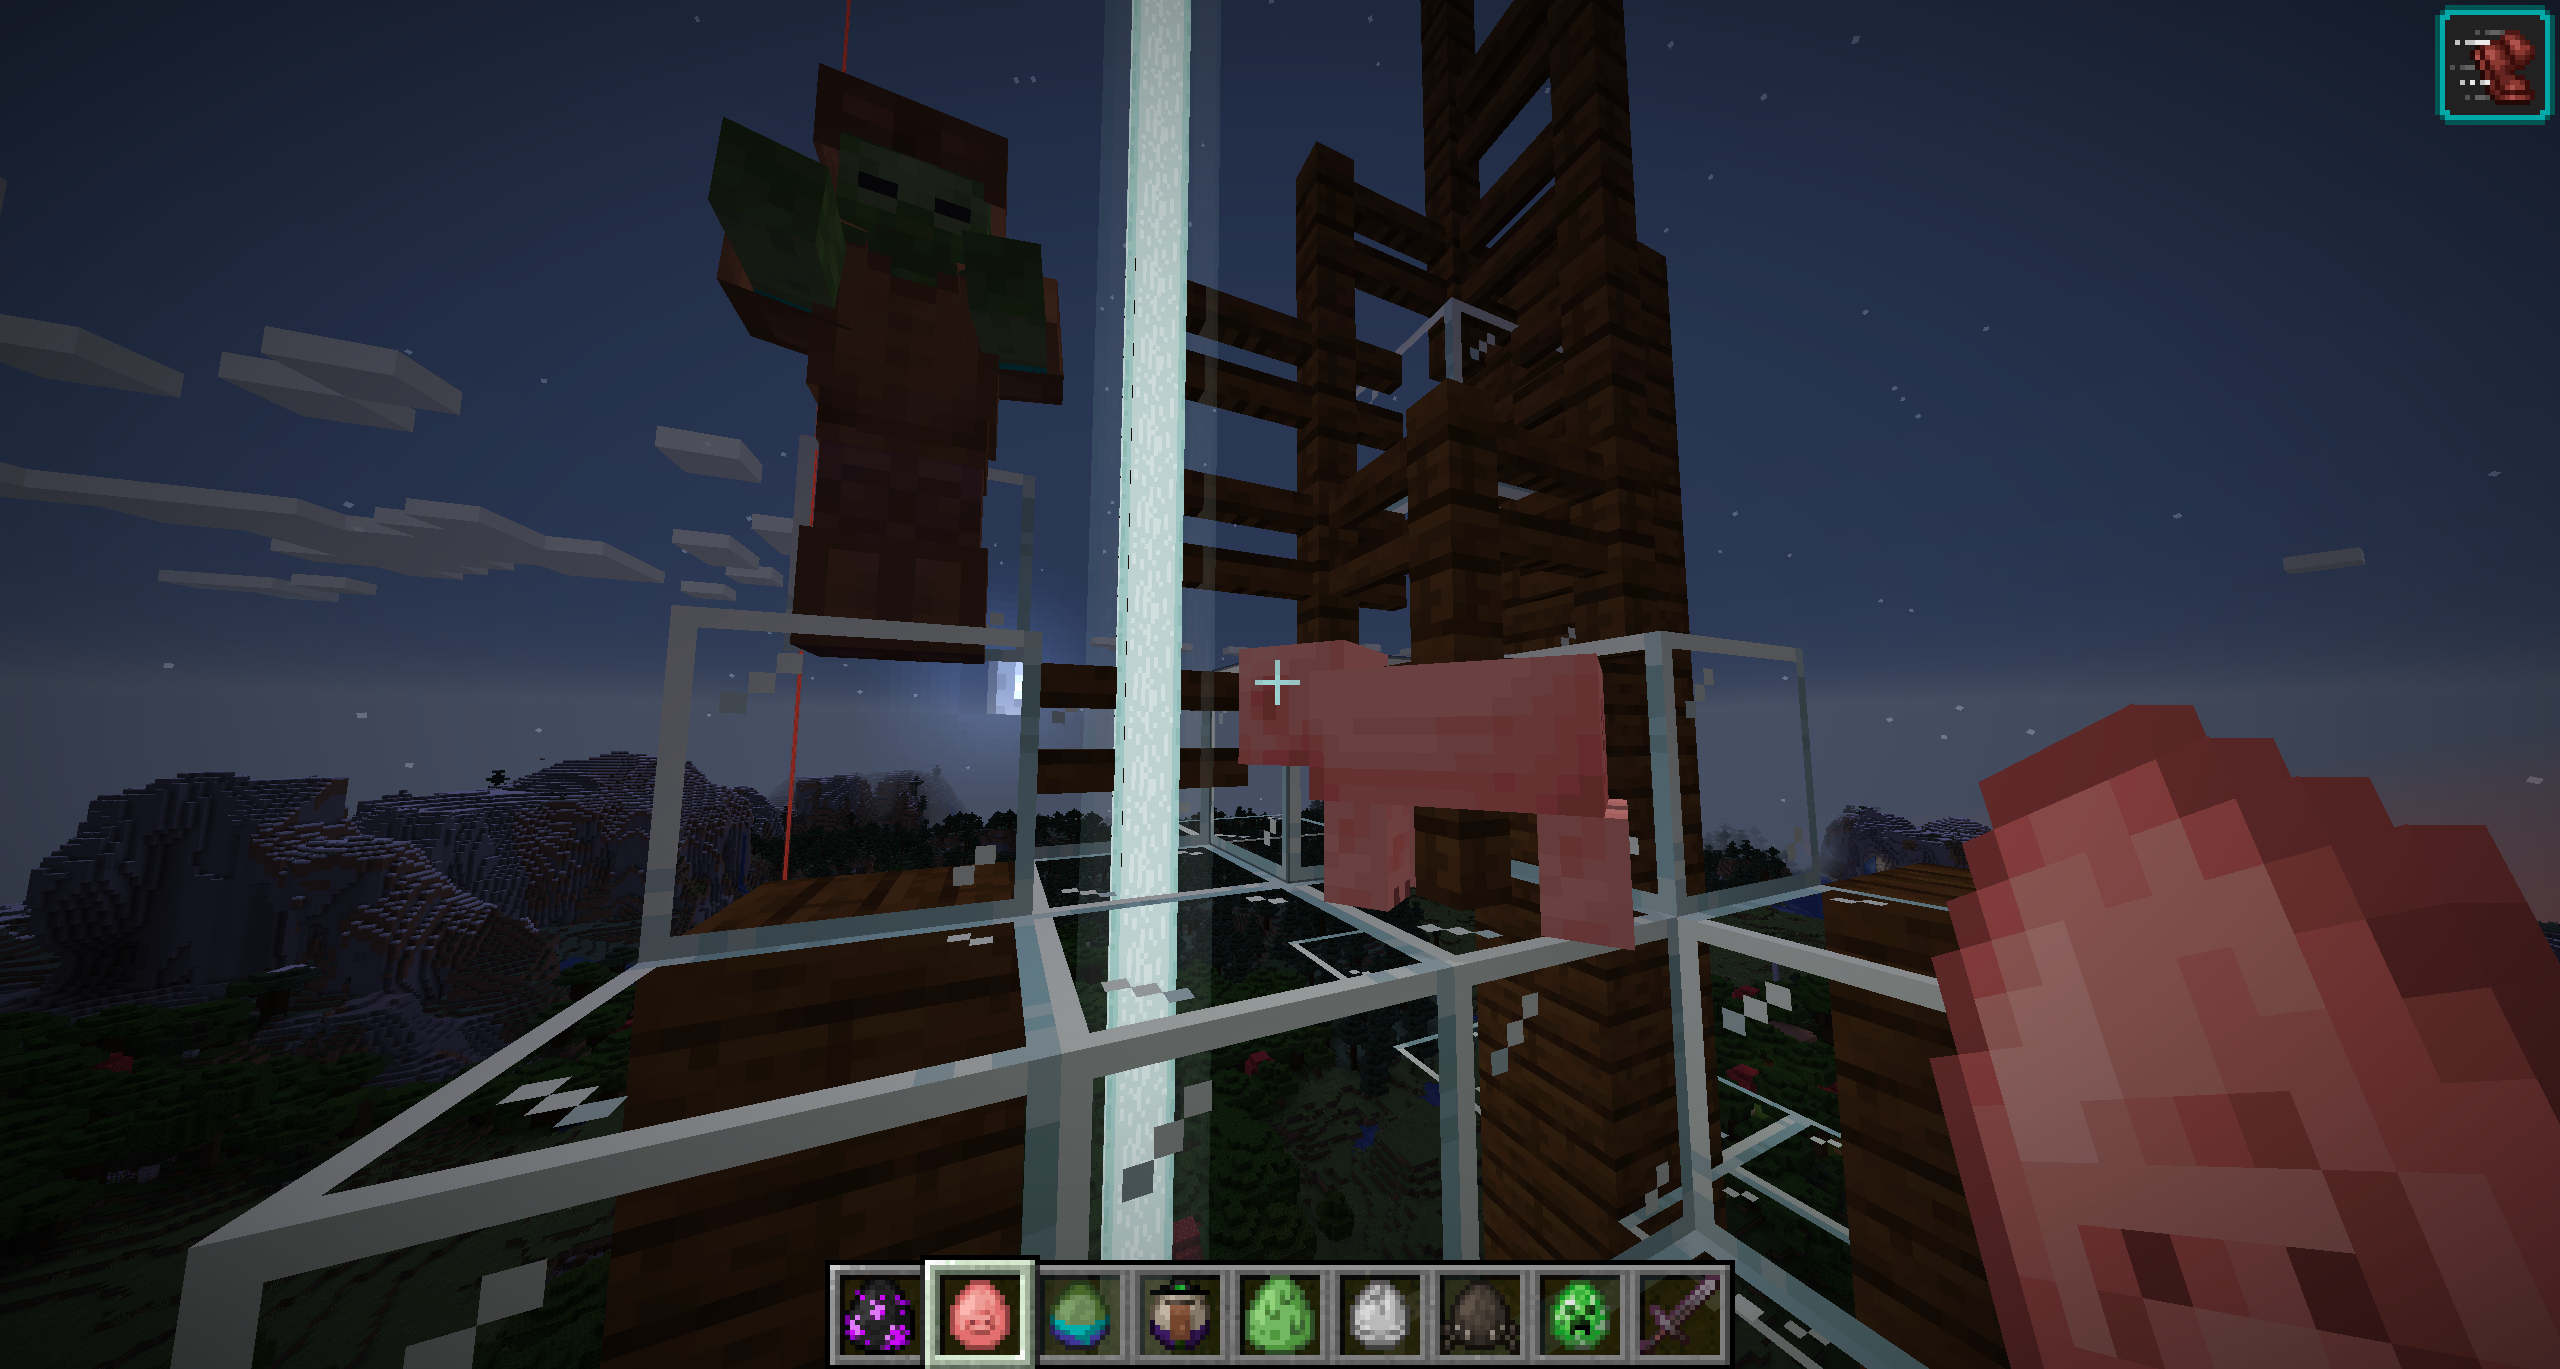cochons: (1229, 645, 1649, 946)
zombies: (718, 49, 1068, 641)
